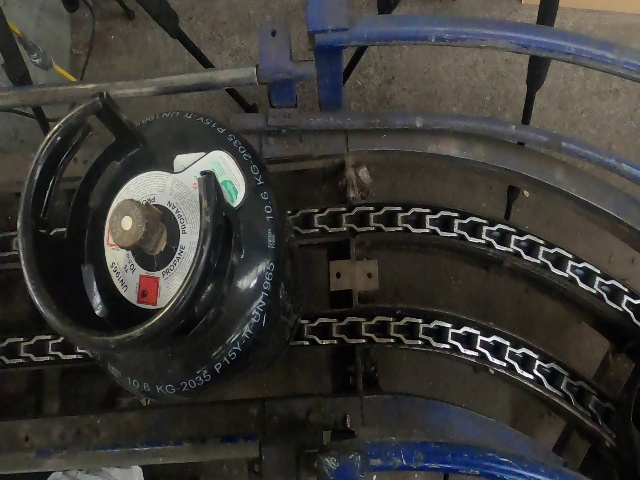gas_bottle: (0, 3, 624, 466)
